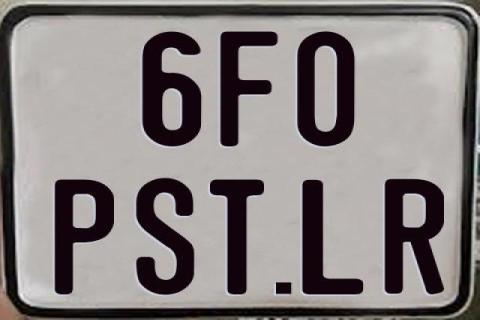0: (140, 31, 206, 147), (296, 31, 358, 149)
F: (220, 29, 281, 147)
L: (300, 180, 363, 296)
P: (54, 177, 115, 293)
R: (382, 178, 441, 294)
S: (135, 177, 196, 299)
T: (208, 177, 266, 293)
